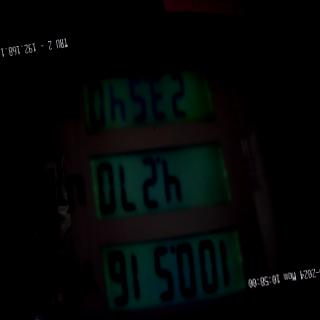screen: (62, 33, 254, 320)
